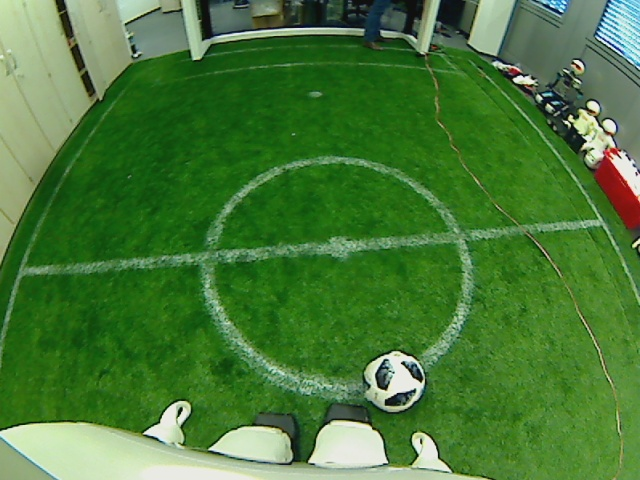ball: (360, 348, 428, 414)
